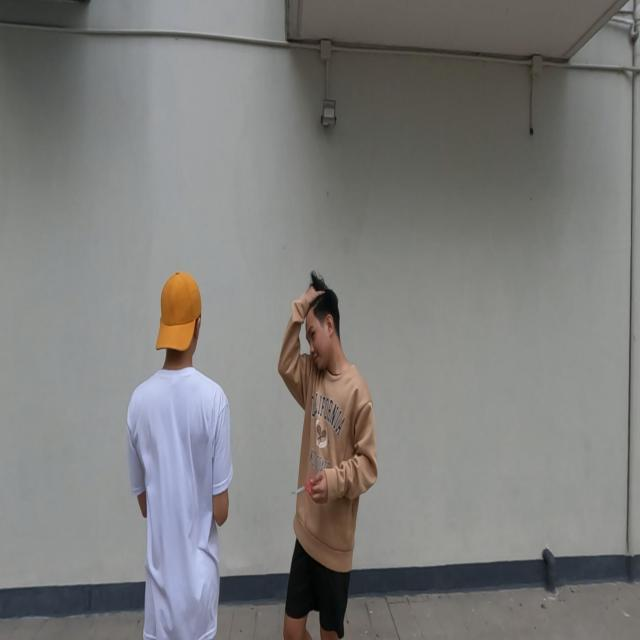scissor: (290, 479, 319, 497)
